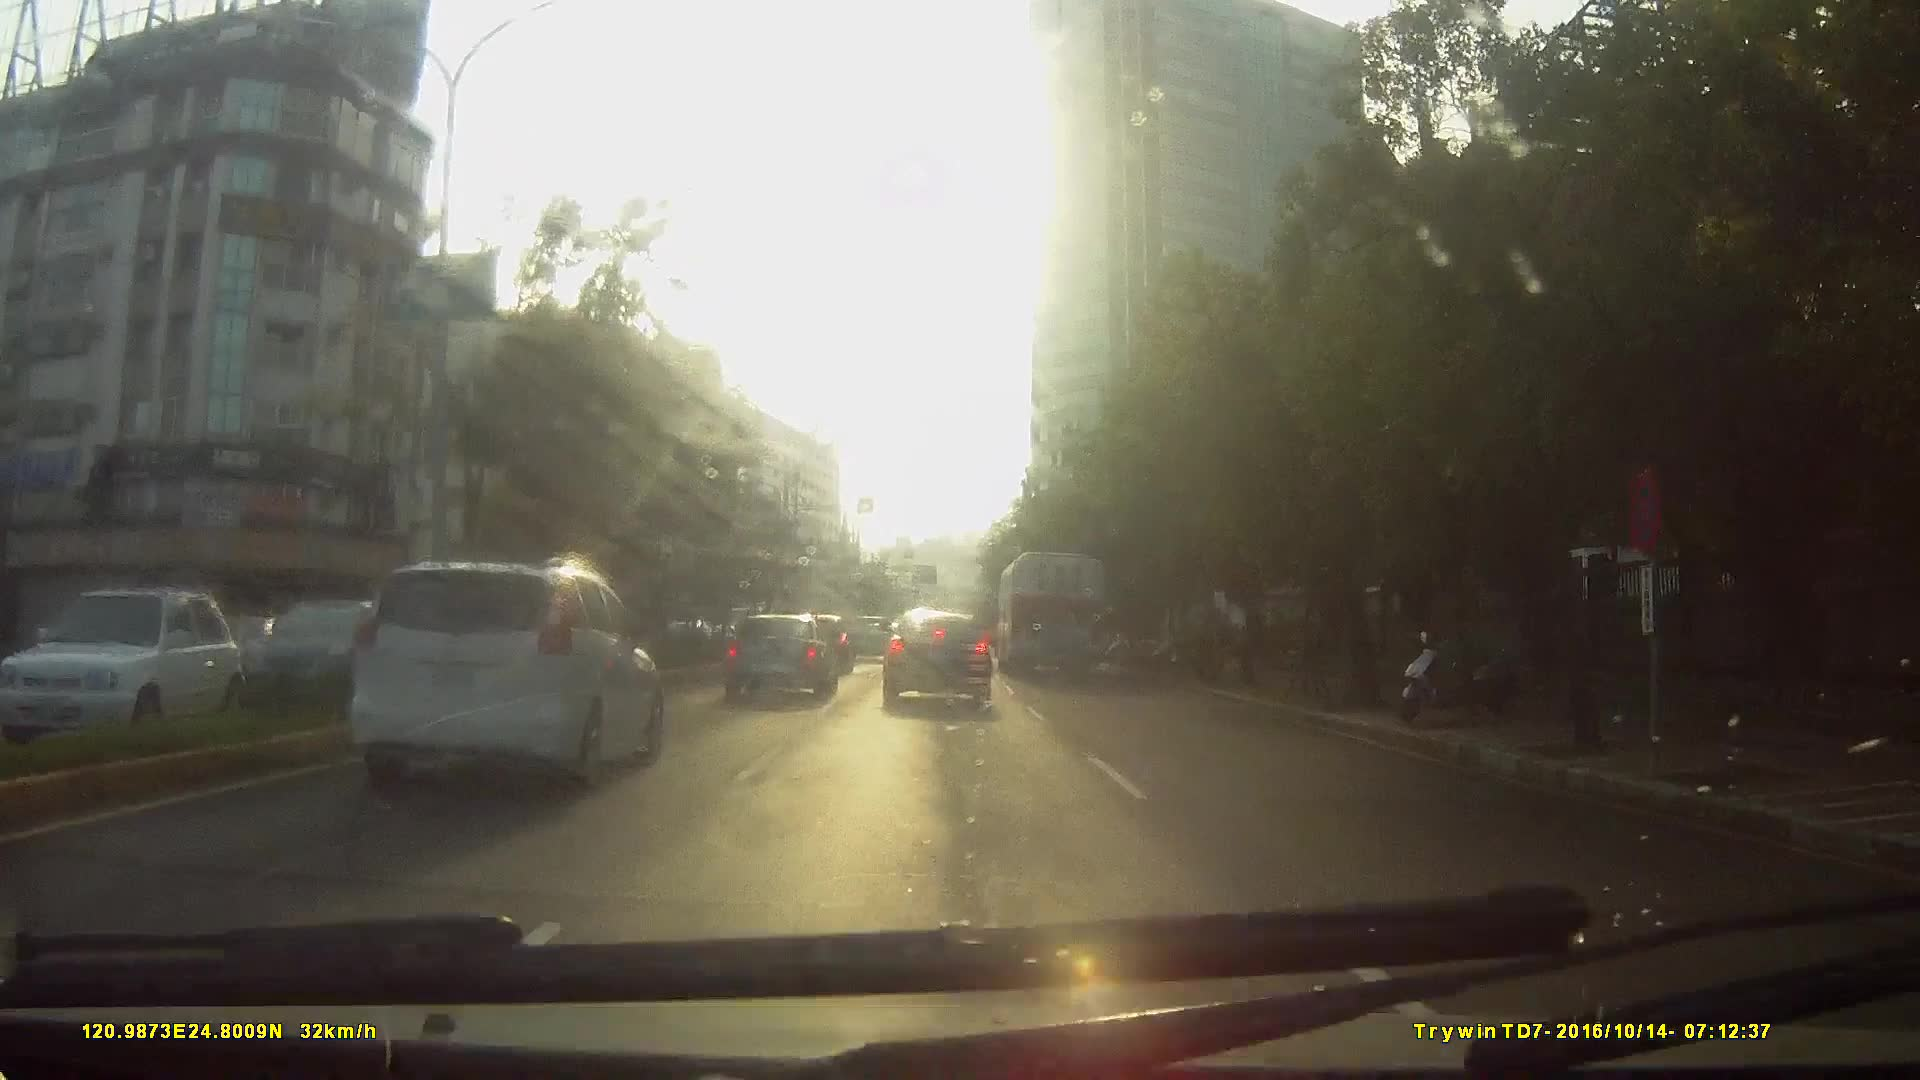vehicle: (251, 556, 684, 868), (340, 554, 662, 793), (8, 583, 257, 766), (236, 600, 405, 709), (998, 549, 1108, 680), (878, 607, 993, 709), (719, 611, 837, 702), (847, 615, 893, 663)
